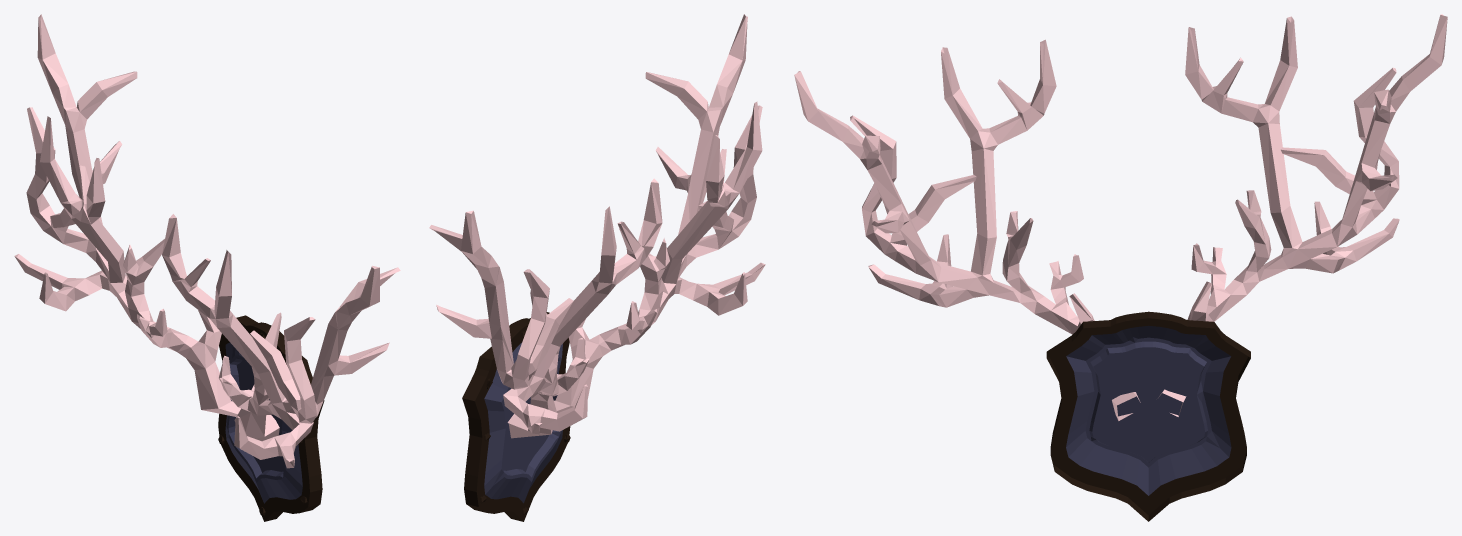
File: SFFA_Elk_Antlers.fbx
3 views of the same model, side by side, from view 1: azimuth 30°, elevation 25°; view 2: azimuth 150°, elevation 25°; view 3: azimuth 270°, elevation 25° (orthographic). The views are drawn at different scales.
Parts seen in each view (by area): view 1: SFFA_Elk_Antlers; view 2: SFFA_Elk_Antlers; view 3: SFFA_Elk_Antlers.
Part boxes in pixels (x1,y1,x2,y2): SFFA_Elk_Antlers: [14, 14, 400, 521]; SFFA_Elk_Antlers: [429, 14, 765, 521]; SFFA_Elk_Antlers: [794, 14, 1447, 521].
Size of the model in its own units: 37.2 by 89.35 by 116.
